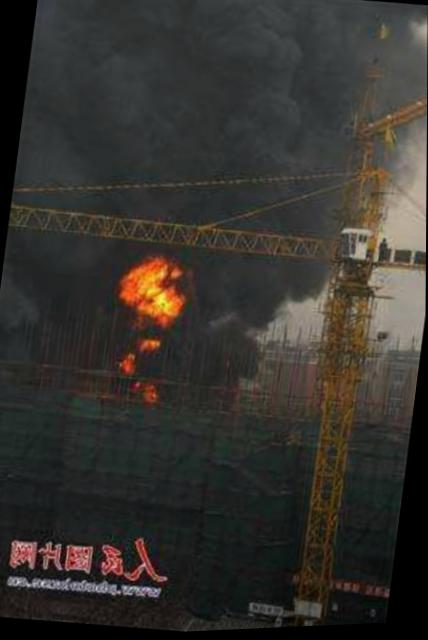fire: (104, 246, 193, 411)
